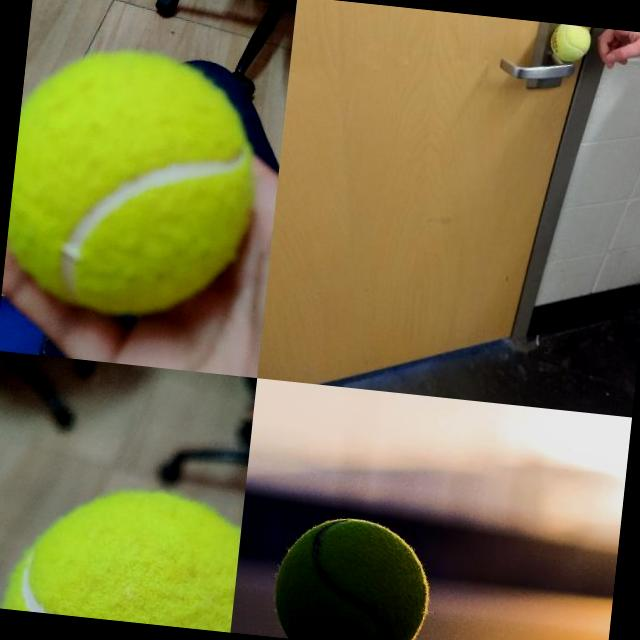Tennis Ball: (2, 41, 264, 325), (2, 477, 244, 631), (269, 509, 436, 640), (548, 22, 592, 64)
